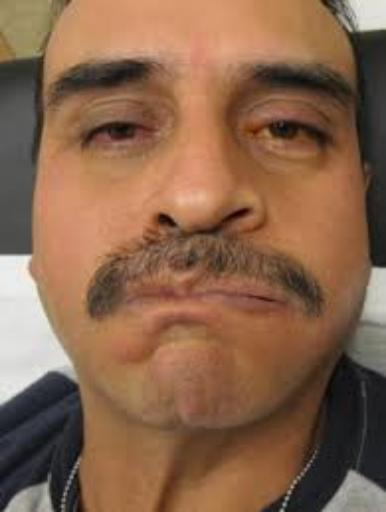left_eye: (248, 118, 334, 150)
left_lip_corner: (261, 291, 296, 314)
right_eye: (78, 118, 160, 153)
right_lip_corner: (120, 281, 151, 313)
